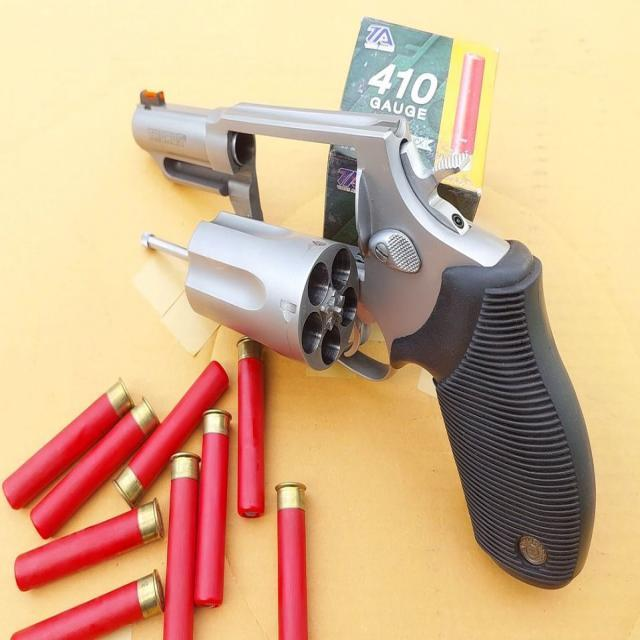revolver: (0, 1, 608, 600)
